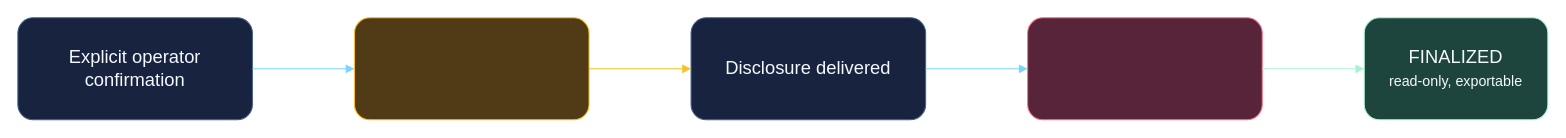
Some shapes in this 1566 by 138 pixel diagram are drawn without their labels. Here are the shapes that lost their labels. From the top down, the box of each, then its label:
(353, 17, 589, 120): DISCLOSING no transcript accepted
(1027, 17, 1262, 120): RECORDING validated events only
